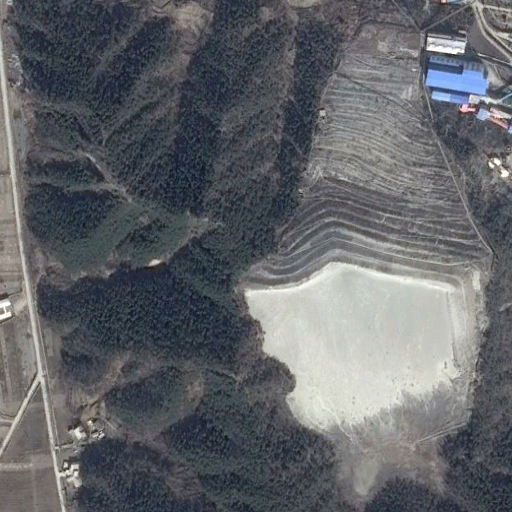tp: (245, 177, 491, 496)
